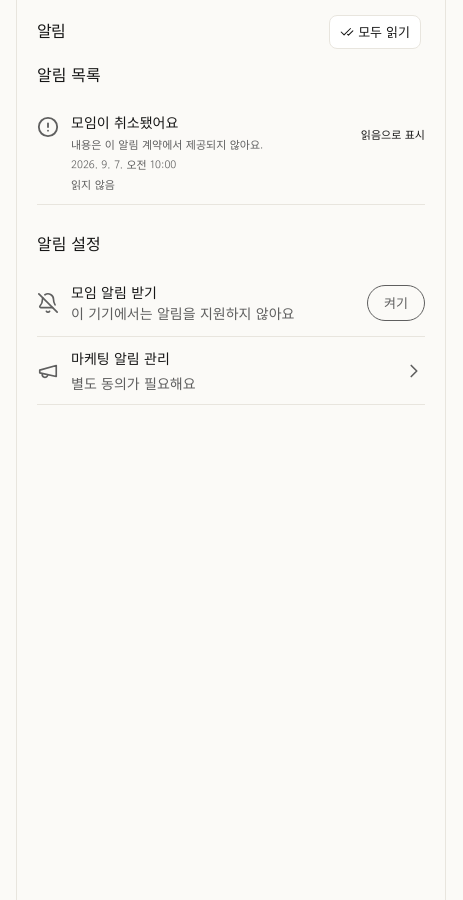
Test: NotificationsPage API behavior › keeps unread state, blocks duplicates, and permits retry after a read-all error
The width and height of the screenshot is (463, 900).
Expected: the text "모임이 취소됐어요" is shown, [71, 112, 178, 132]
Click the button with aria-label "모든 알림 읽기": (375, 32) [325, 10, 425, 54]
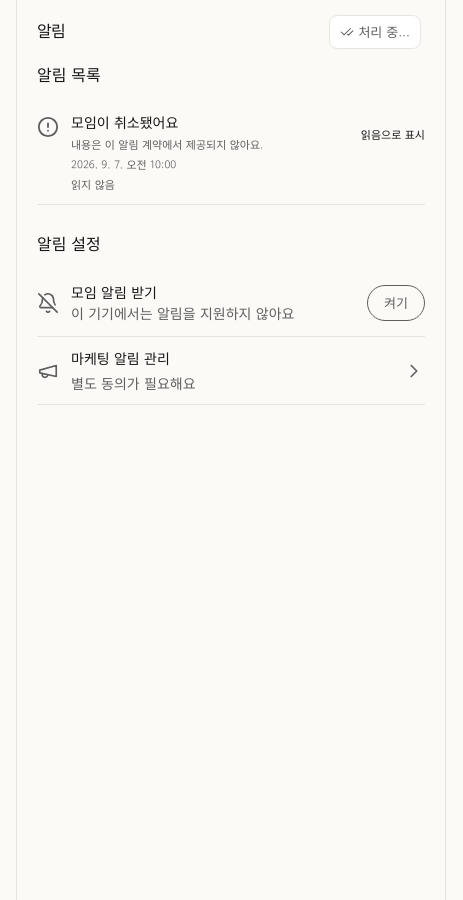
Click the button with aria-label "모든 알림 읽기": (375, 32) [325, 10, 425, 54]
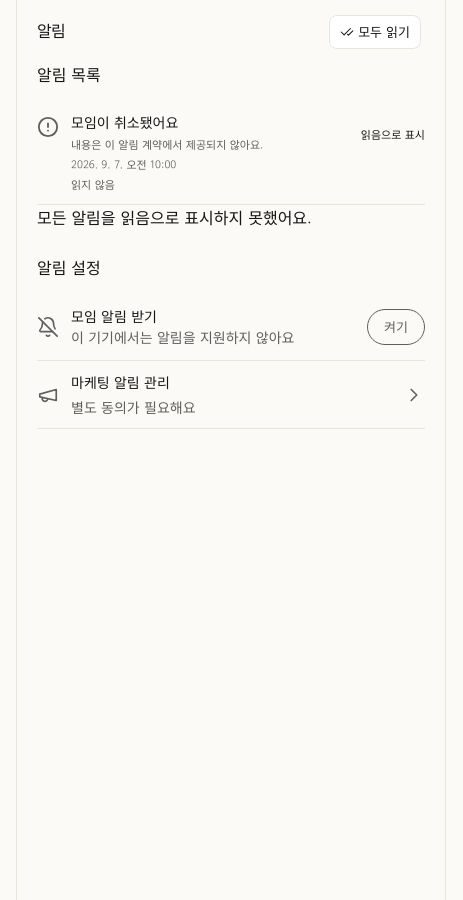
Expected: the text "읽지 않음" is shown, [71, 176, 115, 192]
Expected: the text "모든 알림을 읽음으로 표시하지 못했어요." is shown, [37, 205, 312, 229]
Click the button with aria-label "모든 알림 읽기": (375, 32) [325, 10, 425, 54]
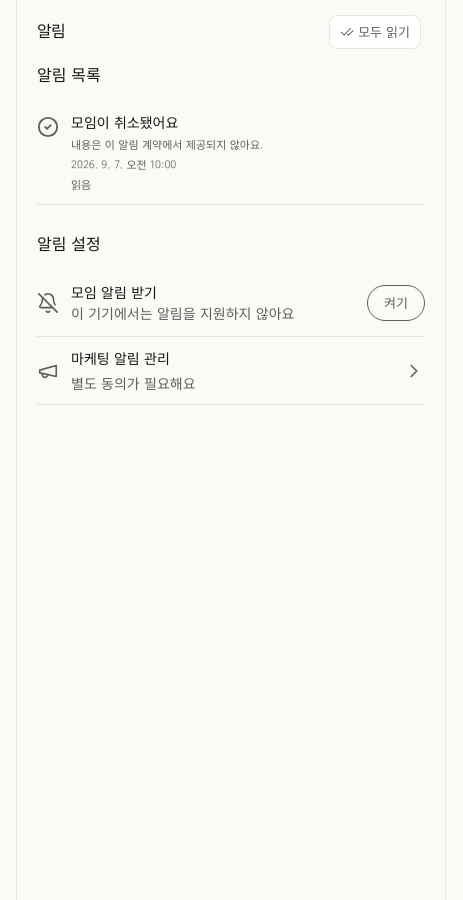
Expected: the text "읽음" is shown, [71, 176, 91, 192]
